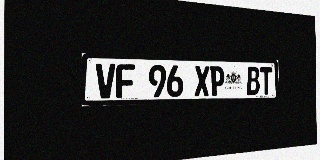6: (167, 65, 183, 97)
9: (149, 65, 166, 97)
B: (247, 67, 260, 95)
F: (116, 64, 135, 98)
P: (210, 66, 224, 96)
T: (260, 67, 272, 95)
V: (96, 63, 115, 99)
X: (194, 65, 209, 96)
